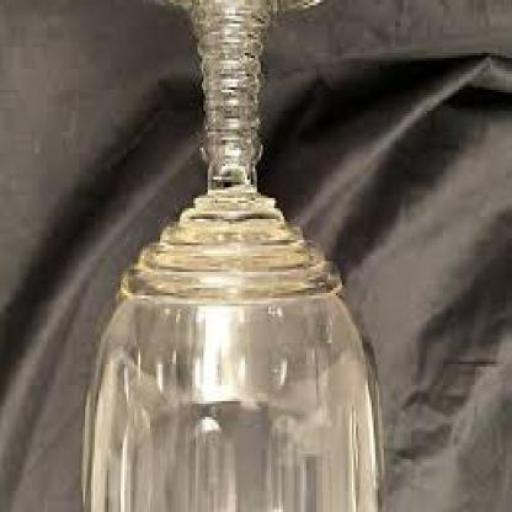glass: (74, 2, 380, 511)
